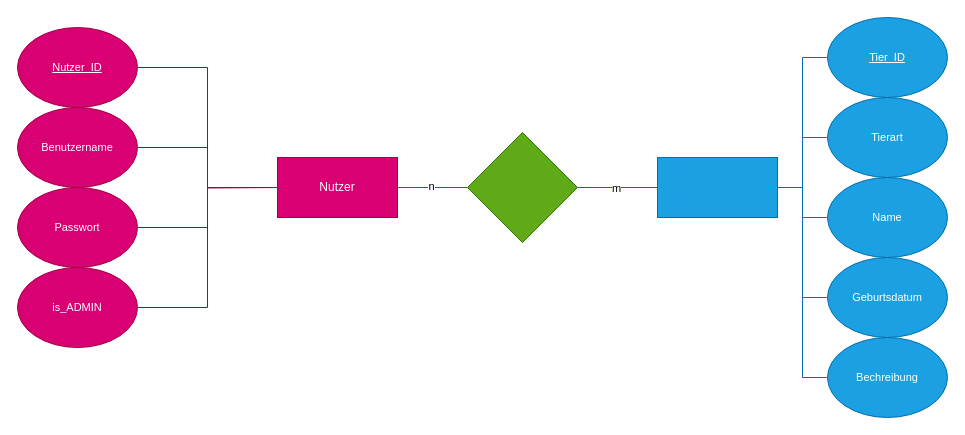
This 965x435 diagram has some shape labels left out. Here are the shapes that lost their labels. From the top down, the box of each, then its label:
(466, 132, 578, 242): kann anfrage stellen
(656, 156, 778, 218): Tier
